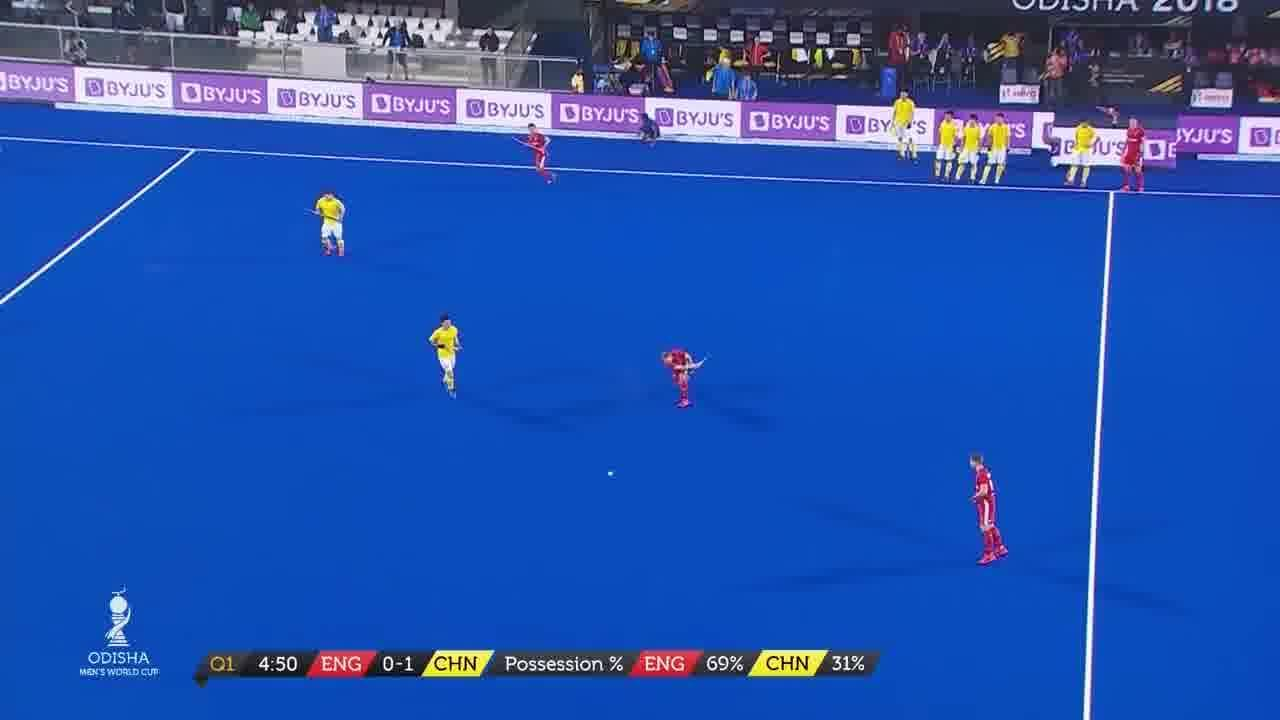ball: (600, 468, 623, 485)
